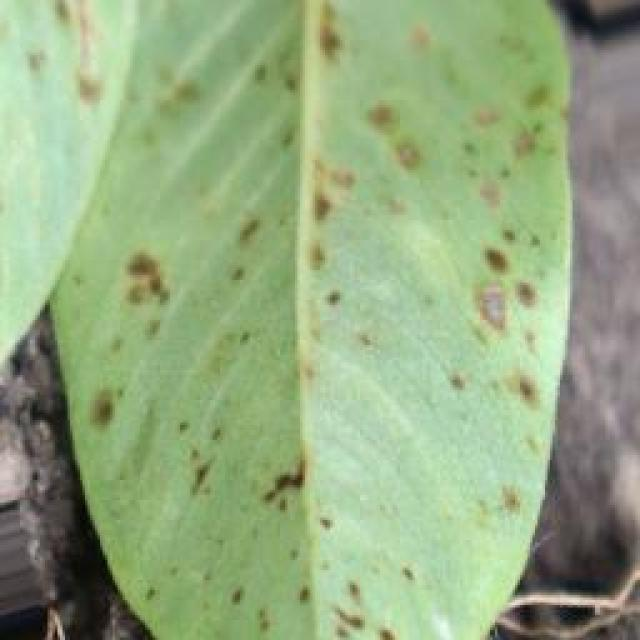Whitefly: (44, 0, 557, 631), (0, 0, 128, 158)
